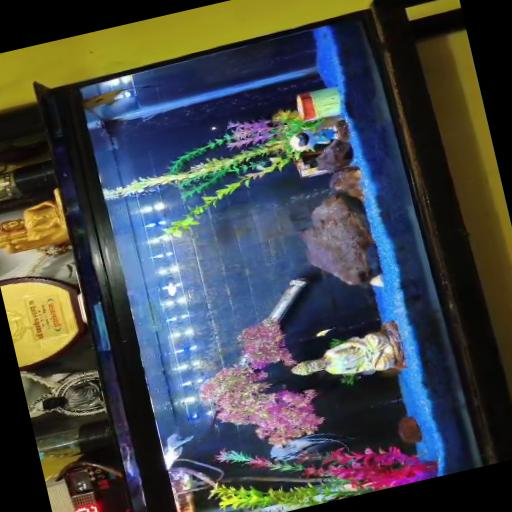Fish: (270, 433, 352, 461), (84, 85, 158, 111), (165, 433, 194, 468), (316, 328, 333, 336)
